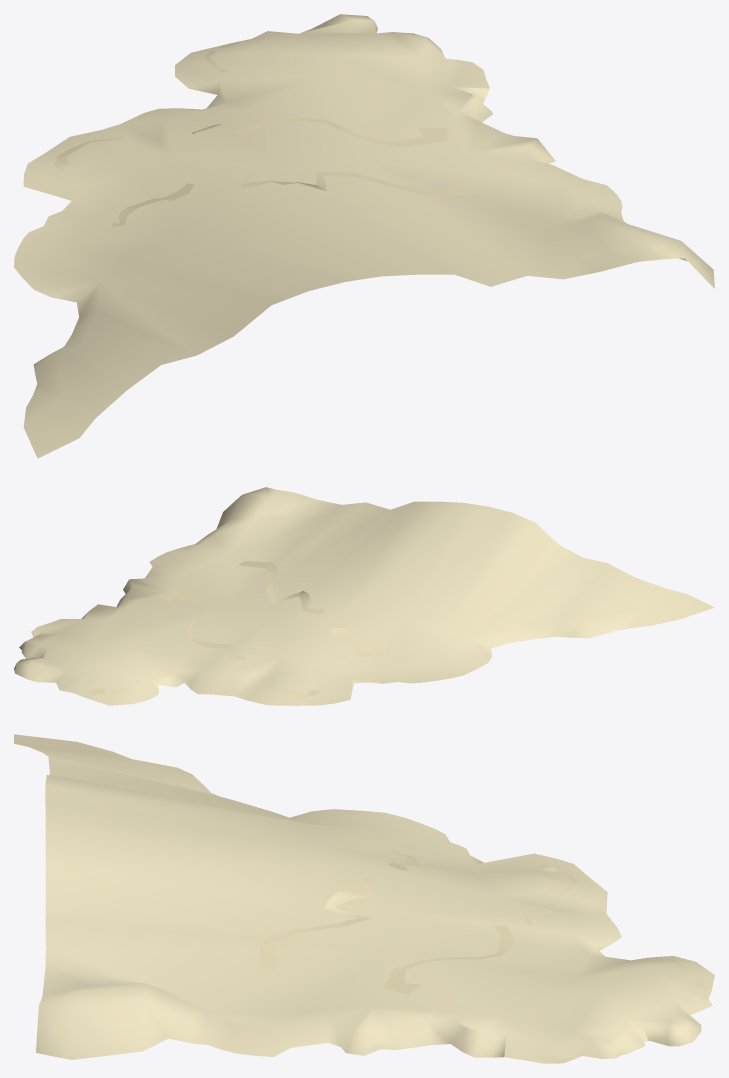
Rendered from Mesh_Battle_SandBeach_Terrain.fbx.
3 renders of one model, top to bottom at view 1: azimuth 30°, elevation 25°; view 2: azimuth 150°, elevation 25°; view 3: azimuth 270°, elevation 25°, orthographic. The views are drawn at different scales.
Parts seen in each view (by area): view 1: Mesh_Battle_SandBeach_Terrain; view 2: Mesh_Battle_SandBeach_Terrain; view 3: Mesh_Battle_SandBeach_Terrain.
Boxes of the visible parts, left/top/right/bottom form: Mesh_Battle_SandBeach_Terrain: left=14, top=14, right=714, bottom=458; Mesh_Battle_SandBeach_Terrain: left=14, top=487, right=714, bottom=705; Mesh_Battle_SandBeach_Terrain: left=14, top=734, right=714, bottom=1063.
Size of the model in its own units: 1254 by 154 by 1122.
